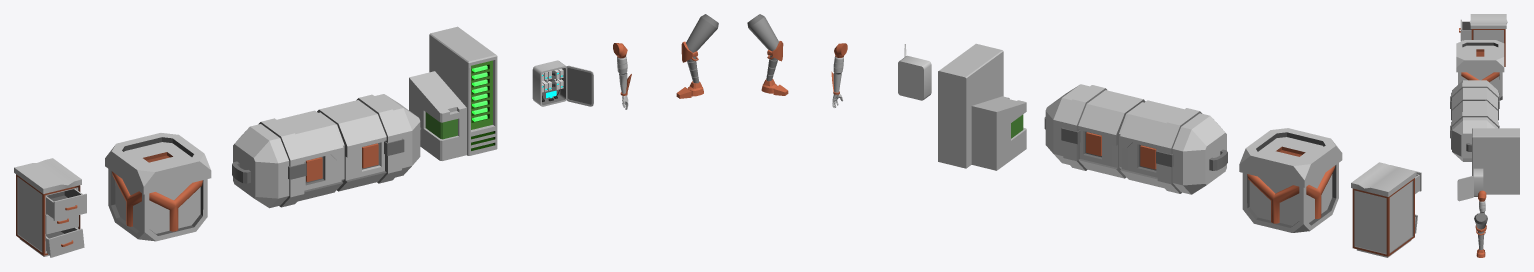
Rendered from Propses.fbx.
The picture shows the model from 3 angles, left to right: view 1: azimuth 30°, elevation 25°; view 2: azimuth 150°, elevation 25°; view 3: azimuth 270°, elevation 25°; orthographic projection. The views are drawn at different scales.
Visible parts, largest first — view 1: telo.002, telo.001, karkas1, karkas2, telo, dvertsy, karkas, Cilindry, leg, Ditails, Hand, GTX geforce 4080 (+2 smaller); view 2: telo.002, telo.001, karkas1, telo, karkas2, karkas, Cilindry, leg, Ditails, Hand, delali; view 3: karkas1, telo.002, telo.001, telo, karkas, leg, dvertsy, Cilindry, Hand, delali, Ditails.
Boxes of the visible parts, x1=… form: telo.002: x1=233, y1=94, x2=420, y2=208; telo.001: x1=105, y1=133, x2=211, y2=241; karkas1: x1=429, y1=26, x2=497, y2=155; karkas2: x1=409, y1=71, x2=466, y2=160; telo: x1=14, y1=158, x2=81, y2=256; dvertsy: x1=45, y1=188, x2=86, y2=257; karkas: x1=532, y1=60, x2=593, y2=106; Cilindry: x1=112, y1=171, x2=202, y2=231; leg: x1=686, y1=14, x2=718, y2=83; Ditails: x1=232, y1=127, x2=421, y2=183; Hand: x1=613, y1=43, x2=631, y2=109; GTX geforce 4080: x1=472, y1=65, x2=487, y2=121; telo.002: x1=1045, y1=84, x2=1226, y2=194; telo.001: x1=1239, y1=128, x2=1342, y2=232; karkas1: x1=938, y1=43, x2=1003, y2=168; telo: x1=1351, y1=162, x2=1416, y2=257; karkas2: x1=971, y1=96, x2=1026, y2=170; karkas: x1=898, y1=44, x2=931, y2=100; Cilindry: x1=1247, y1=166, x2=1335, y2=223; leg: x1=747, y1=14, x2=778, y2=81; Ditails: x1=1044, y1=117, x2=1227, y2=170; Hand: x1=831, y1=43, x2=847, y2=107; delali: x1=761, y1=41, x2=788, y2=95; karkas1: x1=1472, y1=128, x2=1519, y2=194; telo.002: x1=1451, y1=80, x2=1498, y2=161; telo.001: x1=1456, y1=40, x2=1504, y2=100; telo: x1=1470, y1=14, x2=1507, y2=66; karkas: x1=1457, y1=168, x2=1483, y2=201; leg: x1=1474, y1=213, x2=1487, y2=249; dvertsy: x1=1459, y1=19, x2=1471, y2=41; Cilindry: x1=1461, y1=72, x2=1499, y2=82; Hand: x1=1478, y1=190, x2=1486, y2=234; delali: x1=1475, y1=225, x2=1486, y2=257; Ditails: x1=1450, y1=96, x2=1499, y2=151.
Bounding box in the file's own units: 1513 × 200 × 218.
